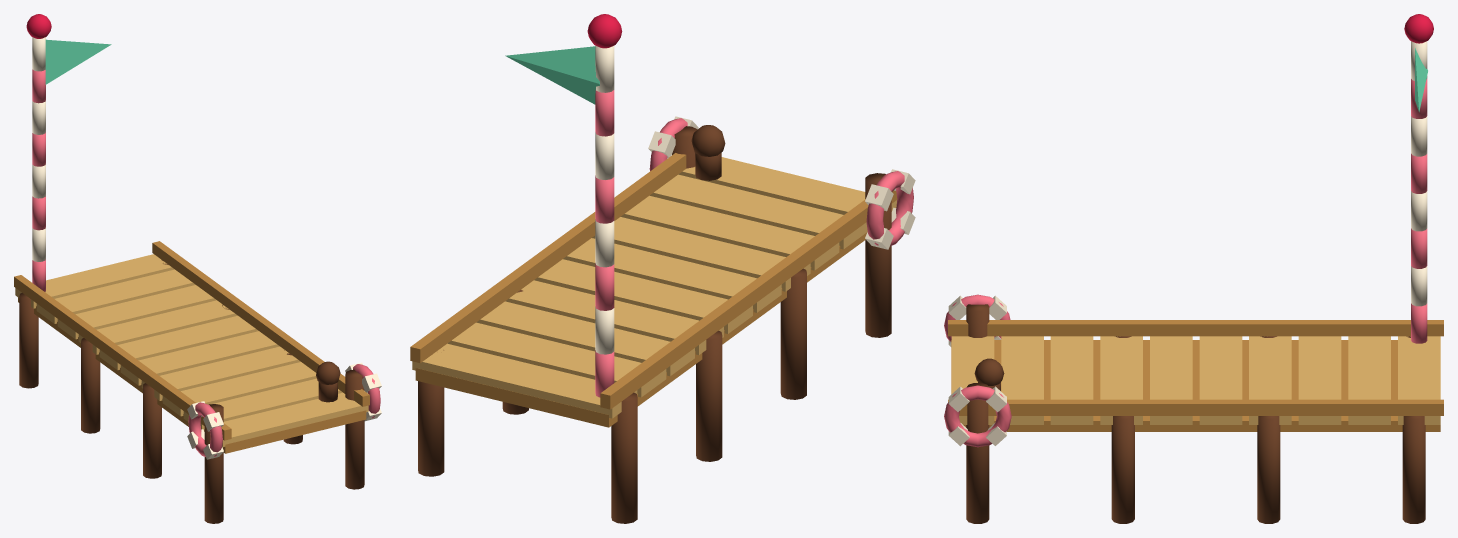
File: jetski-dock.glb
3 renders of one model, left to right at view 1: azimuth 30°, elevation 25°; view 2: azimuth 150°, elevation 25°; view 3: azimuth 270°, elevation 25°, orthographic. The views are drawn at different scales.
Parts seen in each view (by area): view 1: jetski-dock; view 2: jetski-dock; view 3: jetski-dock.
Boxes of the visible parts, <box> form: jetski-dock: <box>14,14,381,523</box>; jetski-dock: <box>410,14,915,523</box>; jetski-dock: <box>944,14,1443,523</box>.
Size of the model in its own units: 1.4 by 2.87 by 3.03.
1 material, 1 textured.
